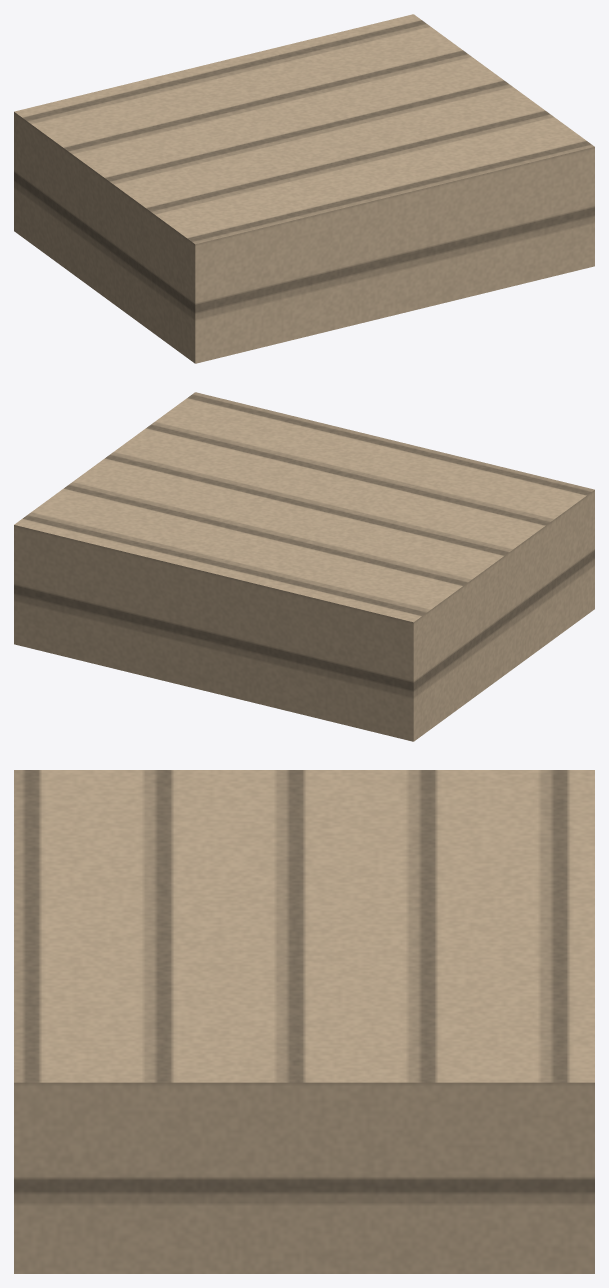
File: kitchen_sink.glb
The picture shows the model from 3 angles, top to bottom: view 1: azimuth 30°, elevation 25°; view 2: azimuth 150°, elevation 25°; view 3: azimuth 270°, elevation 25°; orthographic projection. The views are drawn at different scales.
Visible parts, largest first — view 1: kitchen_sink-col; view 2: kitchen_sink-col; view 3: kitchen_sink-col.
Part boxes in pixels (x1,y1,x2,y2): kitchen_sink-col: (14, 14, 594, 363); kitchen_sink-col: (14, 392, 594, 741); kitchen_sink-col: (14, 770, 594, 1273).
Bounding box in the file's own units: 0.7 × 0.2 × 0.55.
1 material, 1 textured.
